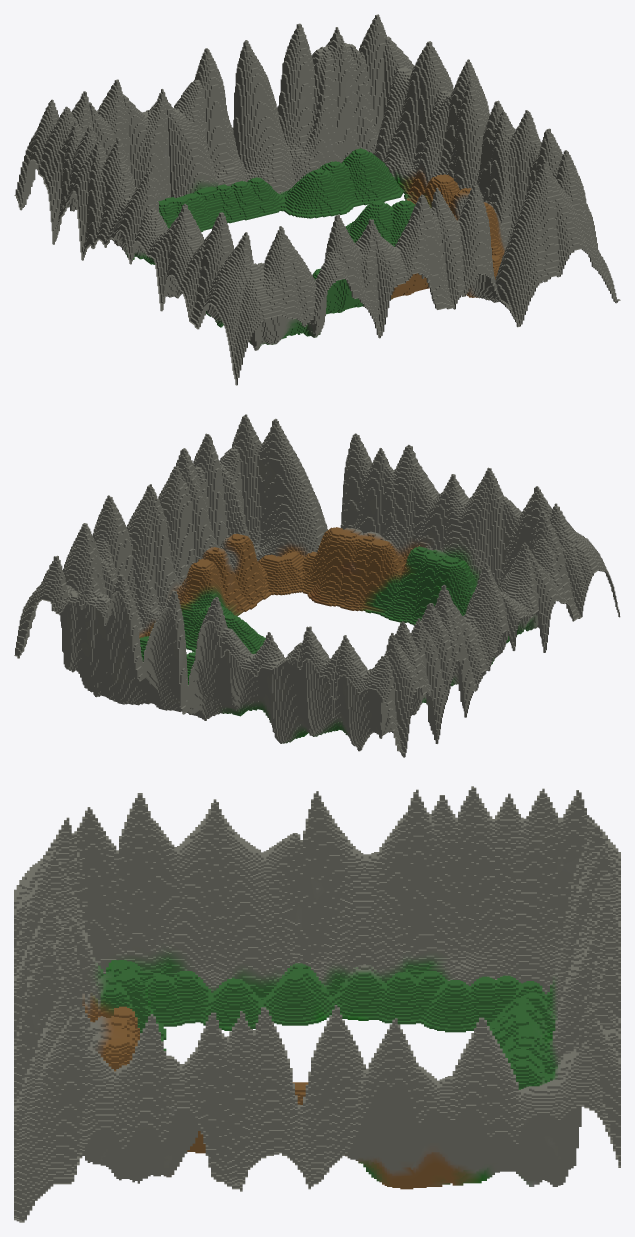
Rendered from experimenting painting.fbx.
3 renders of one model, top to bottom at view 1: azimuth 30°, elevation 25°; view 2: azimuth 150°, elevation 25°; view 3: azimuth 270°, elevation 25°, orthographic. The views are drawn at different scales.
Visible parts, largest first — view 1: Base grid.001; view 2: Base grid.001; view 3: Base grid.001.
Boxes of the visible parts, box(x1,y1,x2,y2) form: Base grid.001: box(14, 14, 620, 385); Base grid.001: box(14, 414, 620, 757); Base grid.001: box(14, 786, 620, 1222).
Bounding box in the file's own units: 11858 × 4312 × 11858.
